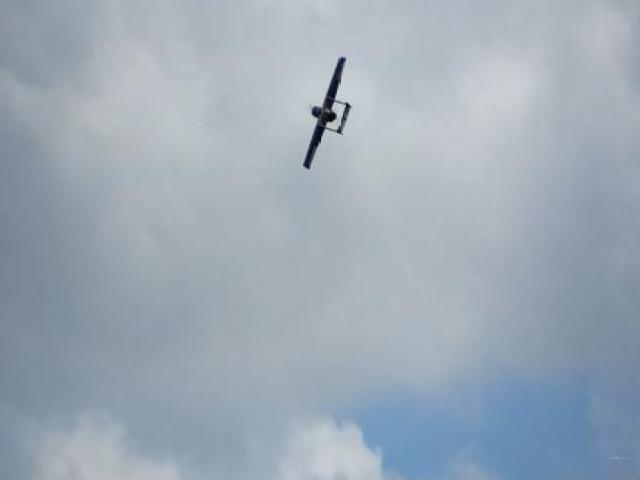uav: (299, 54, 352, 174)
